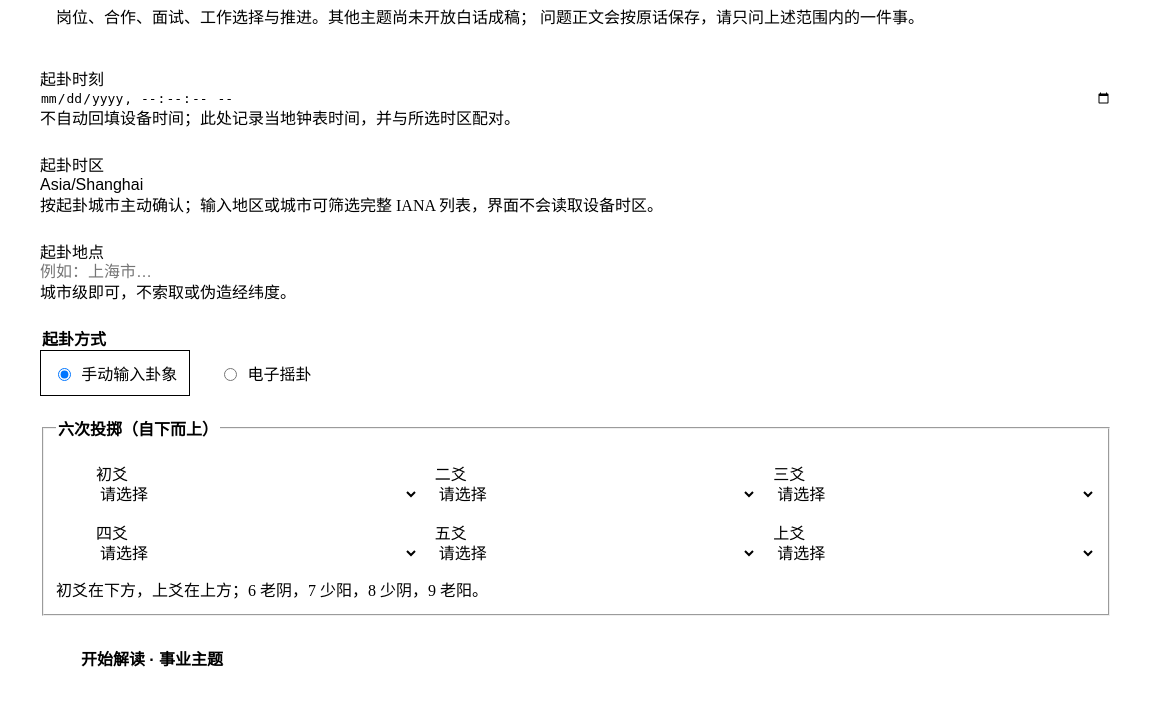
it: LiuyaoForm › requires event_datetime and location with inline errors and focuses the question
(page scrolled)
expect the field labelled "起卦时刻" is shown: met, box [40,90,1112,107]
Click the button "开始解读 · 事业主题".
click(152, 658)  # box [40,636,264,680]
(page scrolled)
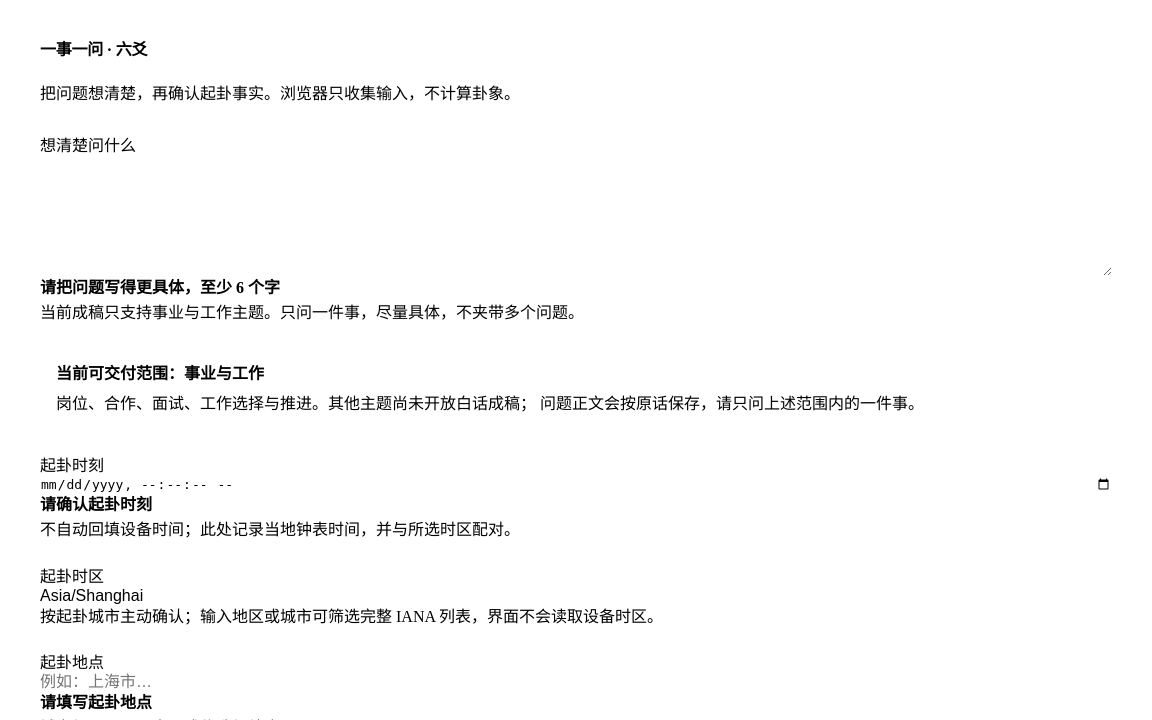
expect the text "请确认起卦时刻" is shown: met, box [40,496,152,513]
expect the text "请填写起卦地点" is shown: met, box [40,694,152,711]
